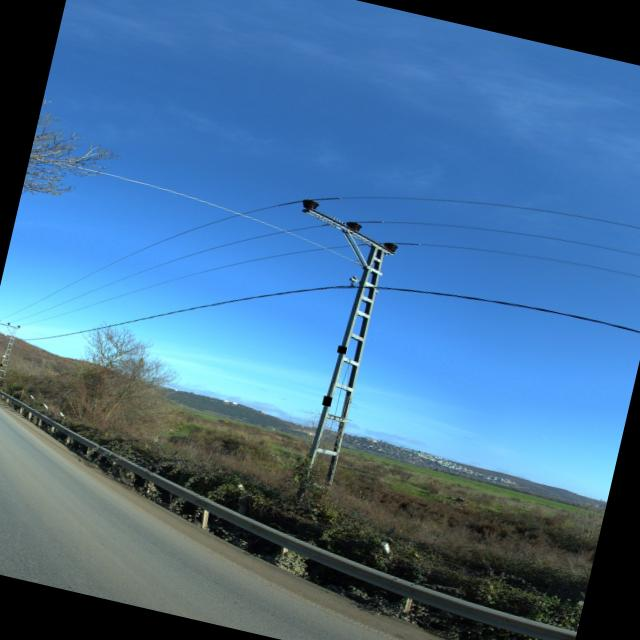Utility Pole Information Plate: (322, 396, 332, 406), (337, 347, 347, 353), (0, 364, 2, 366)
